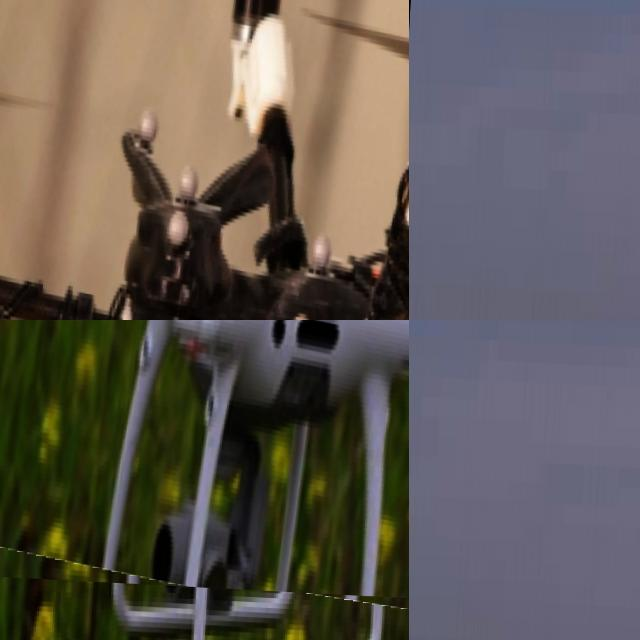drone: (0, 0, 409, 320), (0, 320, 409, 601)
